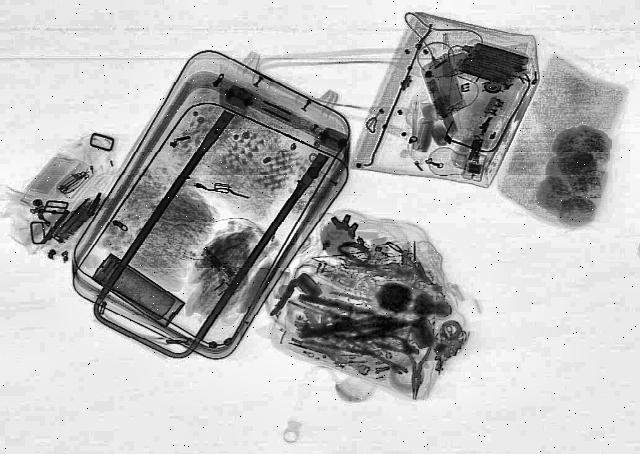Pliers: (398, 321, 436, 398)
Wrench: (358, 345, 410, 377)
